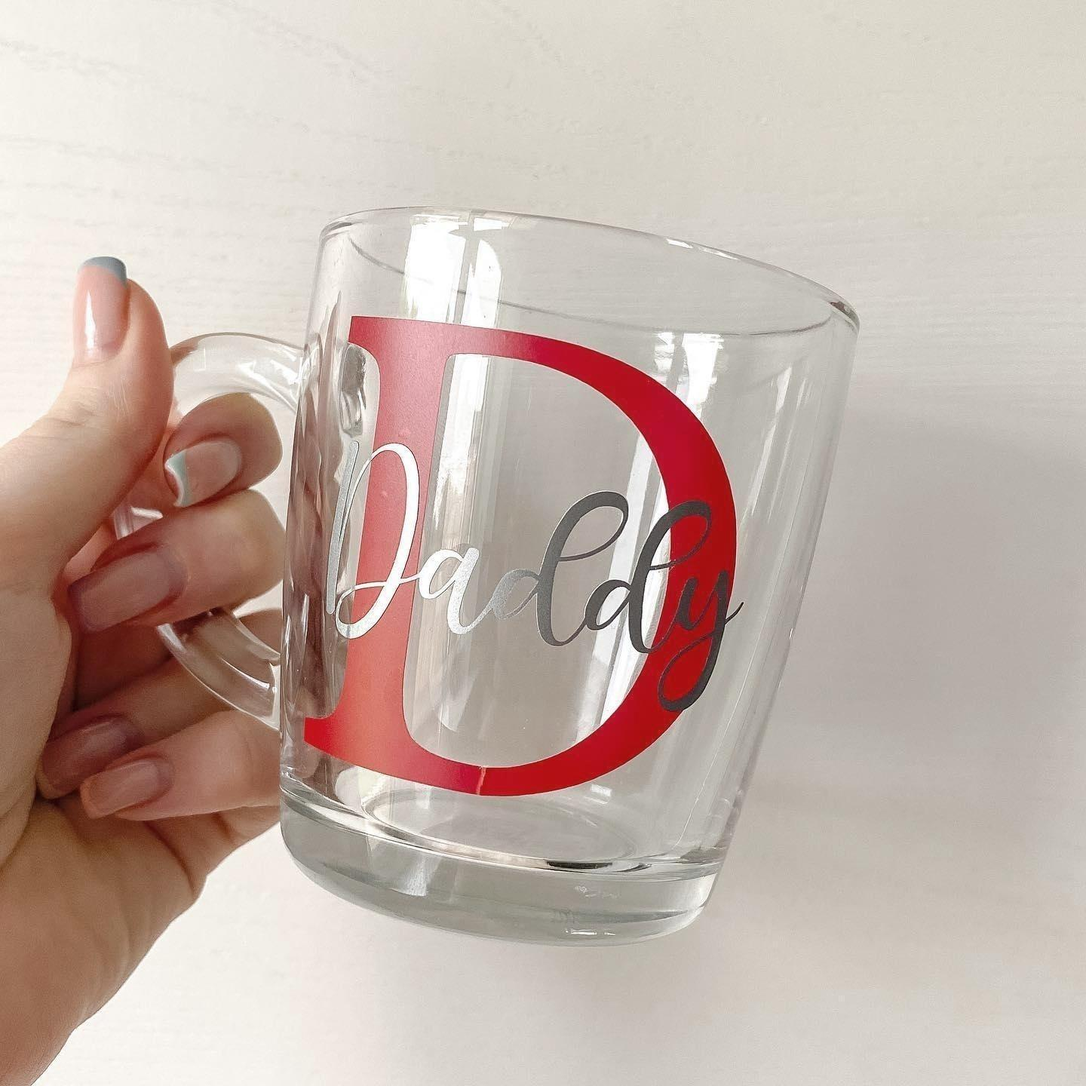glass-mug: (102, 188, 868, 974)
